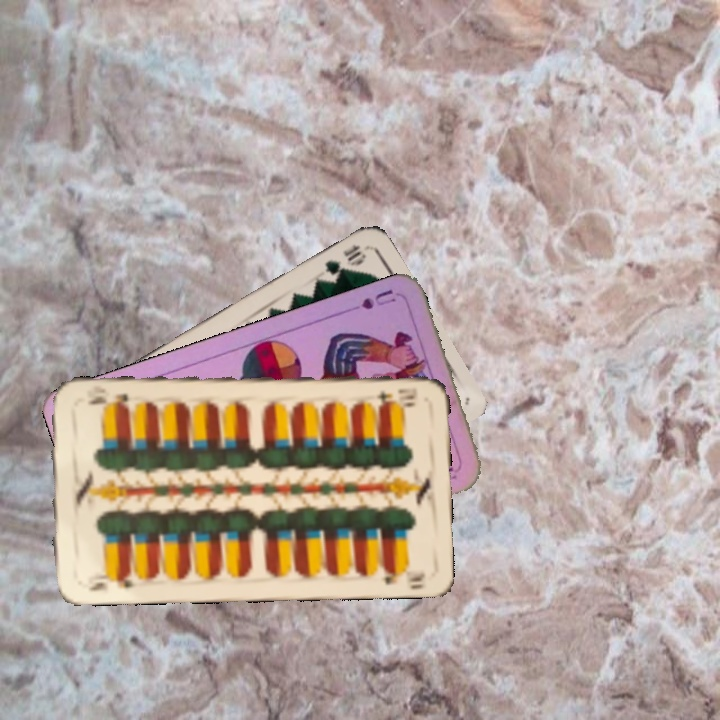E10: (85, 569, 136, 594), (372, 383, 420, 404)
G10: (321, 240, 369, 278)
SU: (341, 285, 399, 315)
